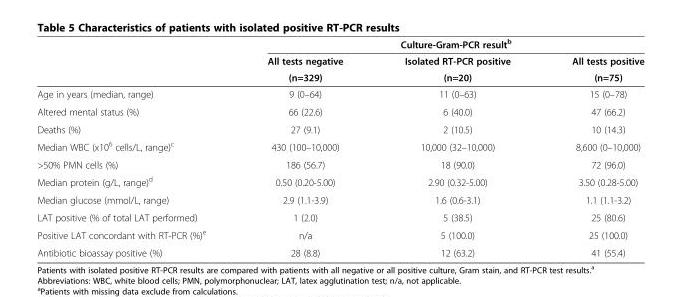table: (36, 36, 643, 258)
table column: (36, 36, 236, 258), (373, 36, 540, 258), (236, 36, 373, 258), (540, 36, 643, 258)
table column header: (36, 36, 643, 85)
table row: (36, 102, 643, 120), (36, 137, 643, 155), (36, 172, 643, 190), (36, 190, 643, 208), (36, 225, 643, 243), (36, 68, 643, 85), (36, 85, 643, 102), (36, 120, 643, 137), (36, 155, 643, 172), (36, 208, 643, 225), (36, 36, 643, 52), (36, 52, 643, 68), (36, 243, 643, 258)
table spanning cell: (236, 36, 643, 52), (373, 52, 540, 85), (236, 52, 373, 85), (540, 52, 643, 85)
